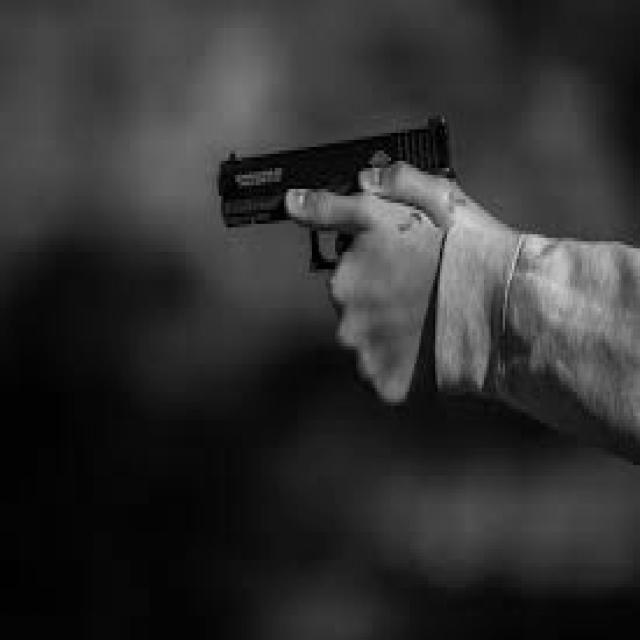handgun: (220, 112, 467, 277)
